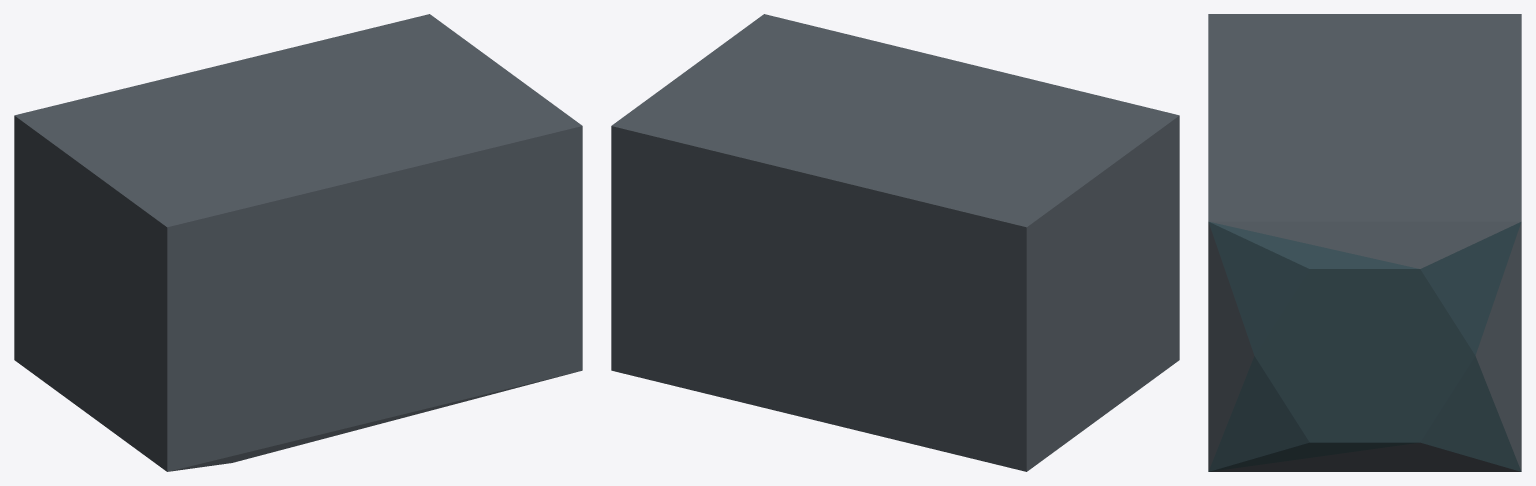
The model's file is GEN_SONAR_HF_T4_COLLISION.fbx.
3 renders of one model, left to right at view 1: azimuth 30°, elevation 25°; view 2: azimuth 150°, elevation 25°; view 3: azimuth 270°, elevation 25°, orthographic. The views are drawn at different scales.
Visible parts, largest first — view 1: UCX_SEN_GEN_SONAR_HF_T4_00; view 2: UCX_SEN_GEN_SONAR_HF_T4_00; view 3: UCX_SEN_GEN_SONAR_HF_T4_00.
Part boxes in pixels (bbox=[...]): UCX_SEN_GEN_SONAR_HF_T4_00: bbox=[14, 14, 582, 471]; UCX_SEN_GEN_SONAR_HF_T4_00: bbox=[611, 14, 1179, 471]; UCX_SEN_GEN_SONAR_HF_T4_00: bbox=[1208, 14, 1521, 471].
Size of the model in its own units: 1.67 by 1.02 by 0.99.
